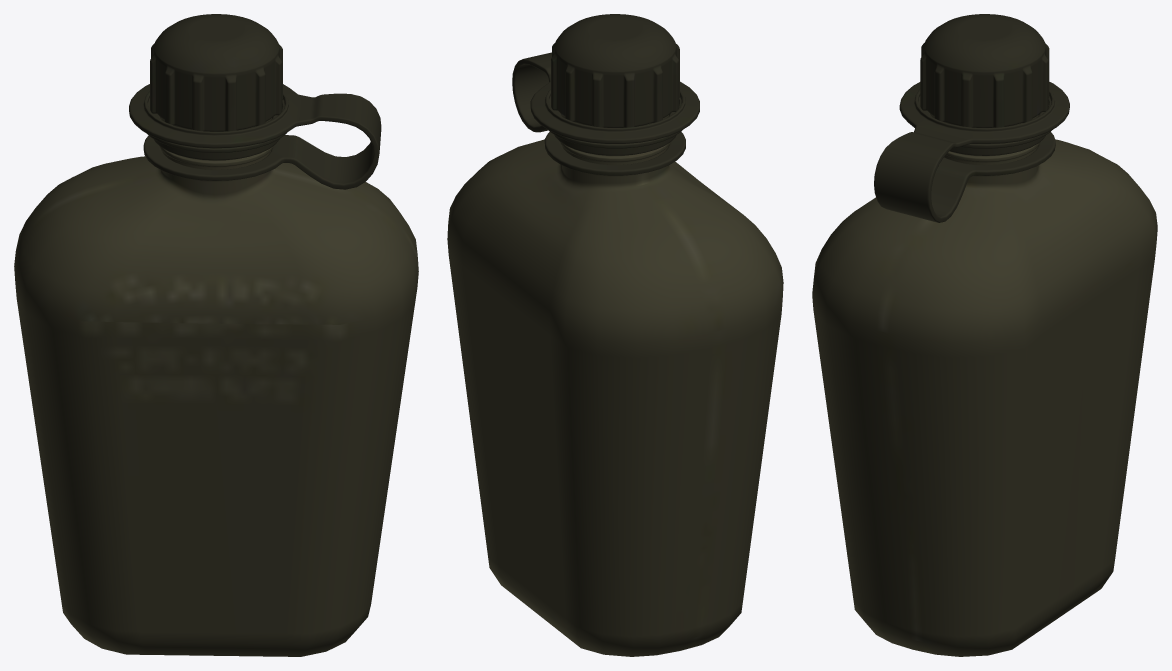
The model's file is flask.ef52a90b34.glb.
The picture shows the model from 3 angles, left to right: view 1: azimuth 30°, elevation 25°; view 2: azimuth 150°, elevation 25°; view 3: azimuth 270°, elevation 25°; orthographic projection. The views are drawn at different scales.
Visible parts, largest first — view 1: flask; view 2: flask; view 3: flask.
Boxes of the visible parts, x1,y1,x2,y2 form: flask: (14, 14, 418, 656); flask: (447, 14, 783, 656); flask: (812, 14, 1157, 656).
Bounding box in the file's own units: 0.1354 × 0.22 × 0.1207.
1 material, 1 textured.
